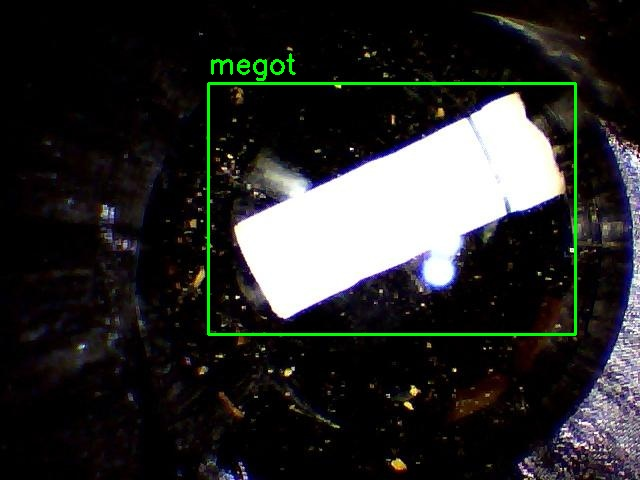megot: (208, 83, 575, 334)
